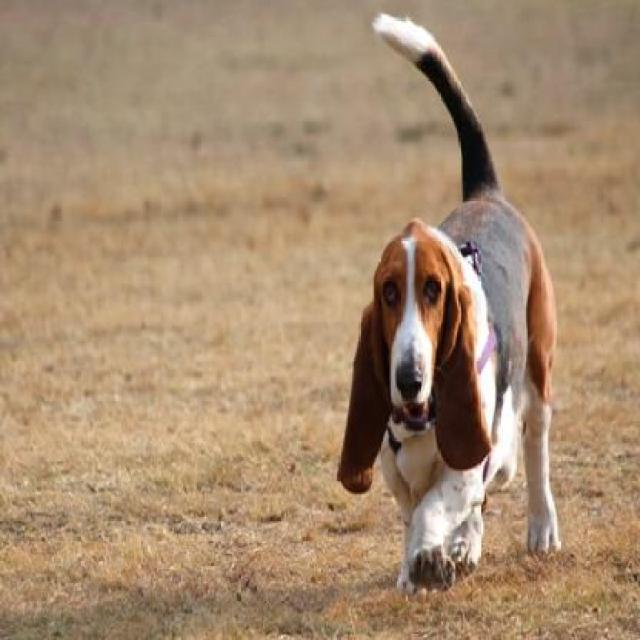animals: (338, 5, 560, 604)
